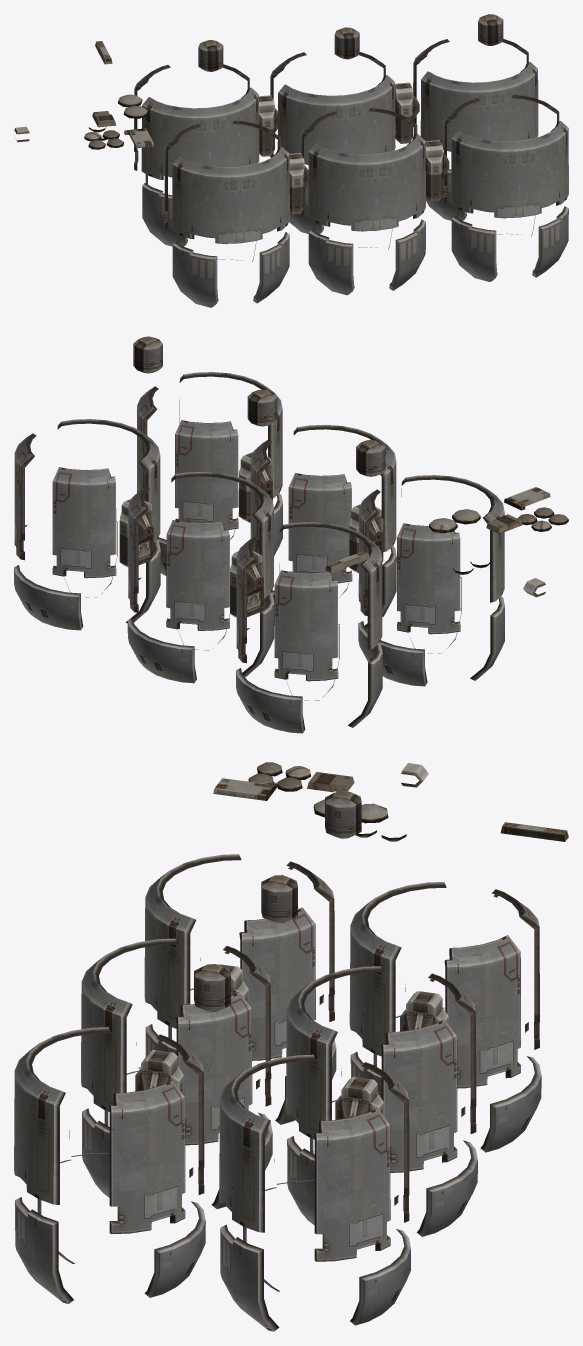
Rendered from prop_static_tr1_container_01_05_0.glb.
3 renders of one model, top to bottom at view 1: azimuth 30°, elevation 25°; view 2: azimuth 150°, elevation 25°; view 3: azimuth 270°, elevation 25°, orthographic. The views are drawn at different scales.
Visible parts, largest first — view 1: tr1_container_01_05_mat01b_LOD0, tr1_container_01_05_mat01d_LOD0, tr1_container_01_05_mat01c_LOD0, tr1_container_01_05_mat01a_LOD0; view 2: tr1_container_01_05_mat01b_LOD0, tr1_container_01_05_mat01d_LOD0, tr1_container_01_05_mat01c_LOD0, tr1_container_01_05_mat01a_LOD0; view 3: tr1_container_01_05_mat01b_LOD0, tr1_container_01_05_mat01d_LOD0, tr1_container_01_05_mat01c_LOD0, tr1_container_01_05_mat01a_LOD0.
Boxes of the visible parts, x1,y1,x2,y2 form: tr1_container_01_05_mat01b_LOD0: (164, 38, 538, 307); tr1_container_01_05_mat01d_LOD0: (300, 95, 568, 295); tr1_container_01_05_mat01c_LOD0: (134, 64, 259, 246); tr1_container_01_05_mat01a_LOD0: (14, 14, 503, 214); tr1_container_01_05_mat01b_LOD0: (14, 419, 504, 686); tr1_container_01_05_mat01d_LOD0: (137, 372, 396, 629); tr1_container_01_05_mat01c_LOD0: (236, 522, 382, 733); tr1_container_01_05_mat01a_LOD0: (119, 336, 568, 617); tr1_container_01_05_mat01b_LOD0: (144, 854, 477, 1331); tr1_container_01_05_mat01d_LOD0: (14, 938, 272, 1303); tr1_container_01_05_mat01c_LOD0: (349, 882, 541, 1152); tr1_container_01_05_mat01a_LOD0: (135, 762, 568, 1119).
Size of what is drawn, in the model's own units: 12.06 by 5.26 by 7.99.
4 materials, 4 textured.
